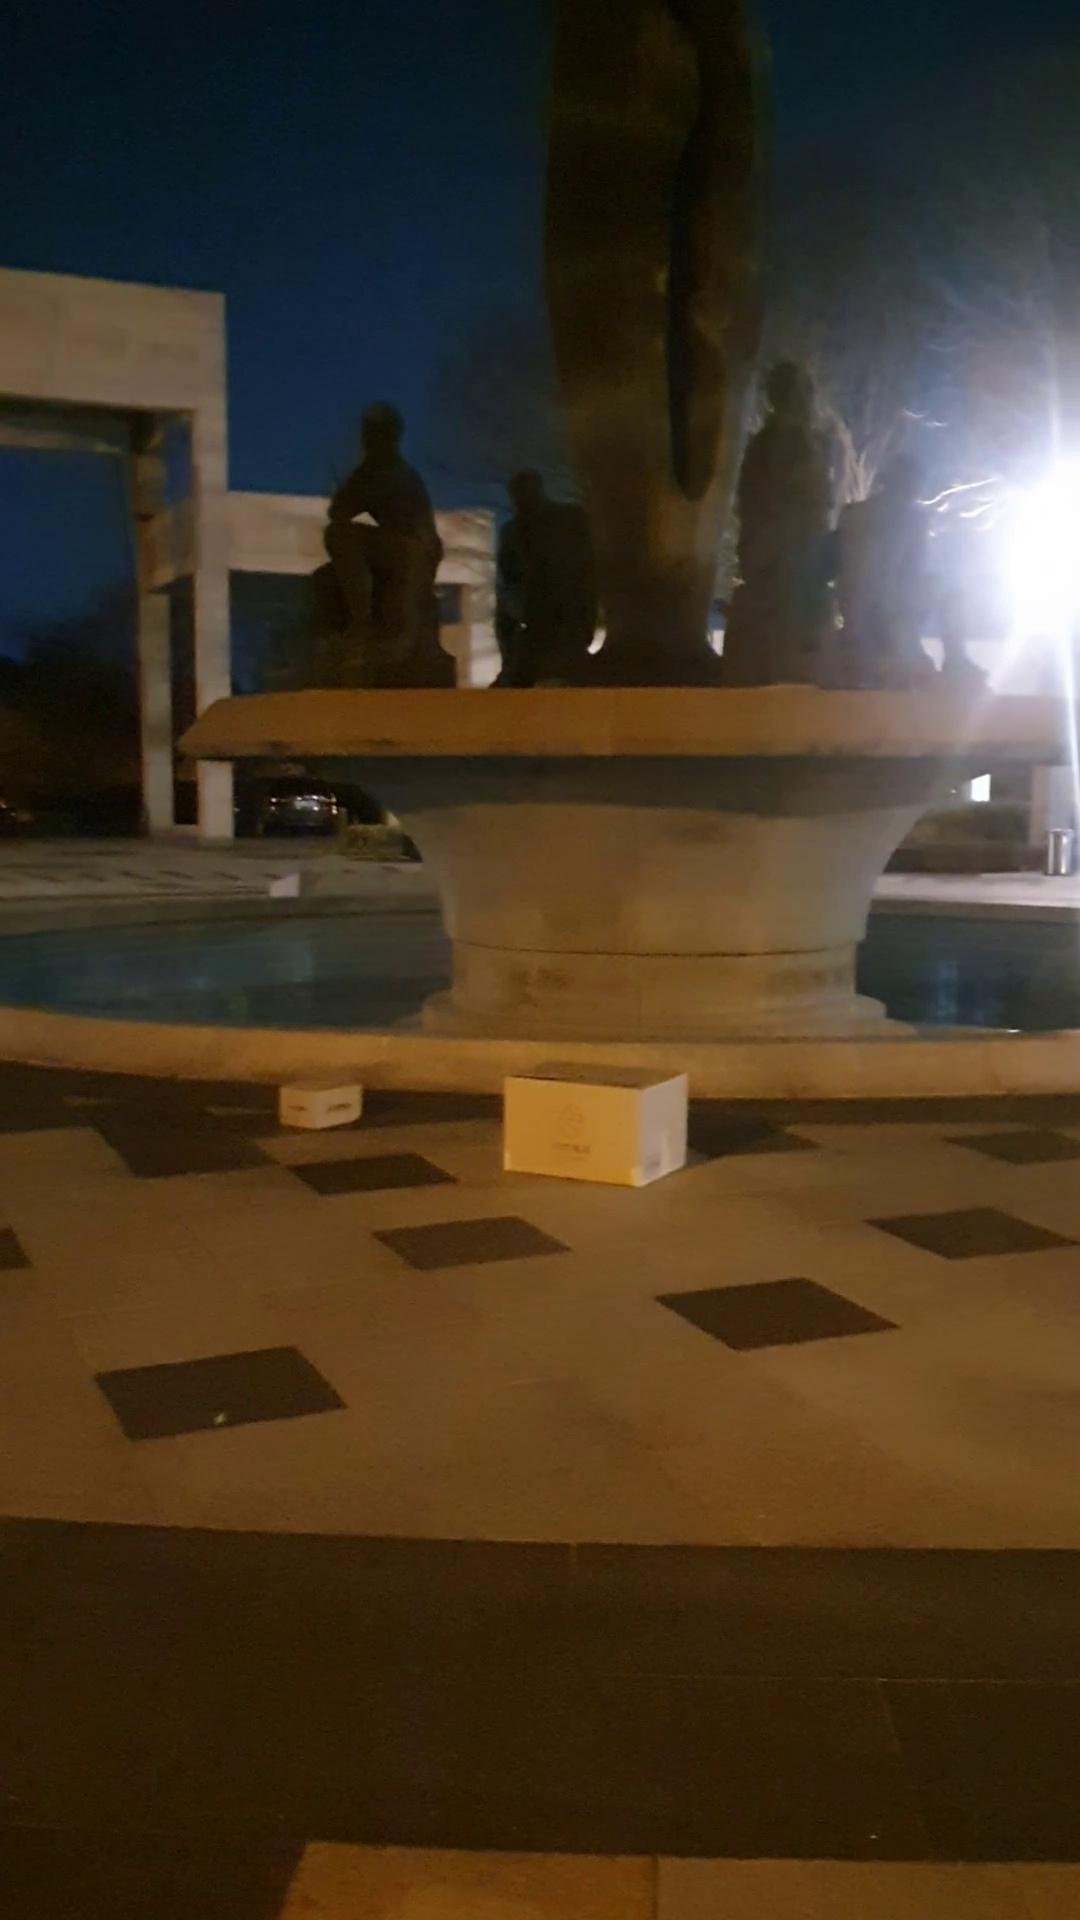Box: (491, 1038, 702, 1197), (261, 1058, 373, 1133)
